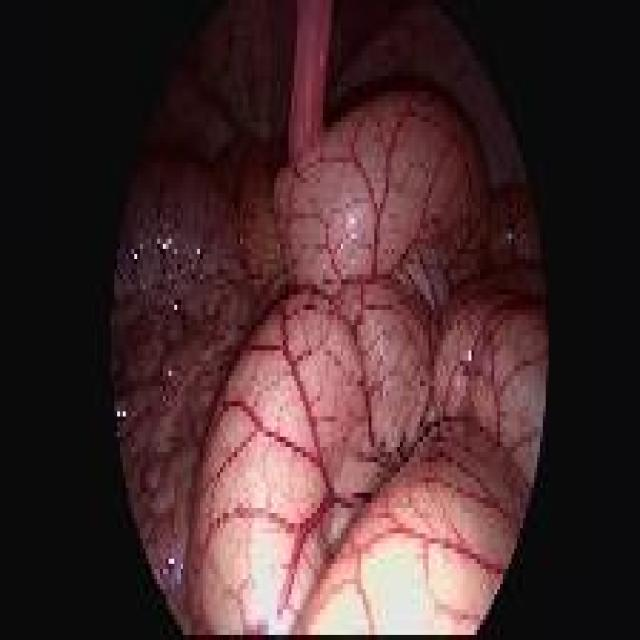contrast: (114, 0, 291, 293), (112, 296, 192, 633), (324, 1, 502, 113), (452, 116, 544, 315)
saturation: (240, 471, 473, 638)
specularity: (159, 552, 175, 581), (461, 345, 473, 379), (153, 233, 172, 254), (128, 246, 141, 267), (191, 242, 205, 261), (334, 236, 346, 258), (171, 296, 184, 316), (162, 364, 175, 382), (115, 405, 127, 423), (175, 561, 185, 581), (345, 213, 356, 231)
